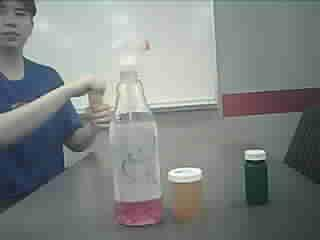Bottle A: (88, 81, 107, 119)
Bottle B: (168, 162, 208, 224)
Bottle C: (241, 144, 277, 209)
hazard: (110, 34, 164, 230)
